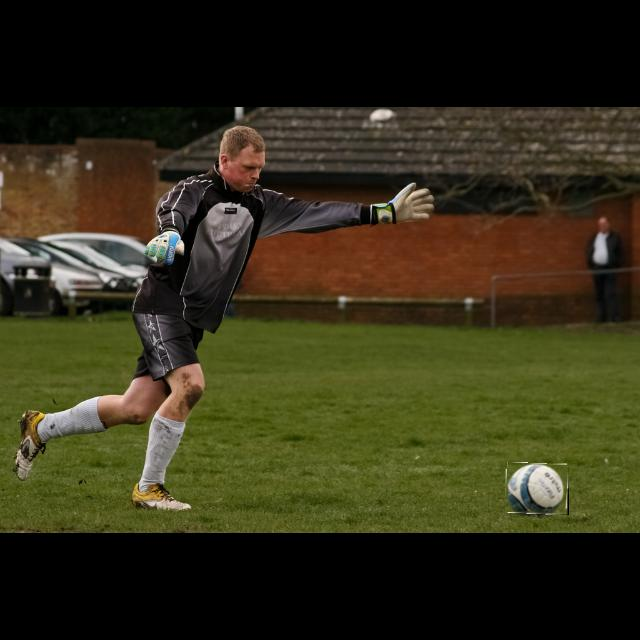Football: (505, 463, 569, 515)
